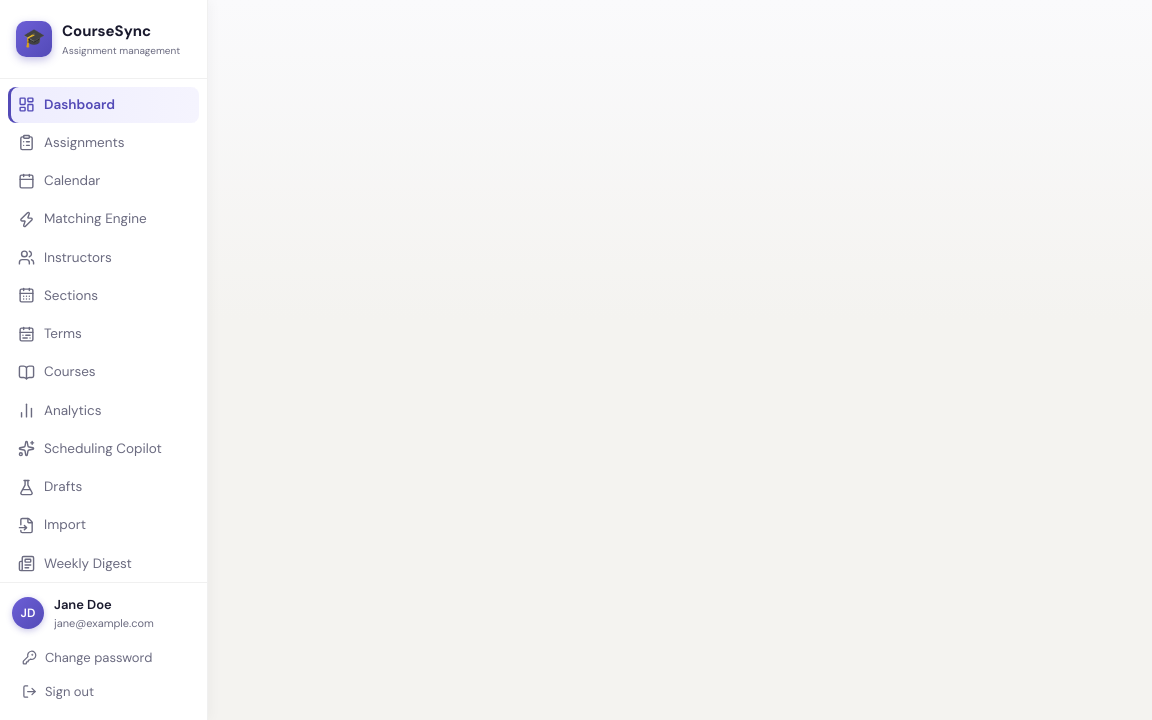
Test: Sidebar › sign-out confirmation › does not sign out immediately — it asks for confirmation first
The width and height of the screenshot is (1152, 720).
What coordinates should you click on to do the following:
click the button "Sign out"
I would click on:
 (104, 691)
Its box is [12, 674, 195, 708].
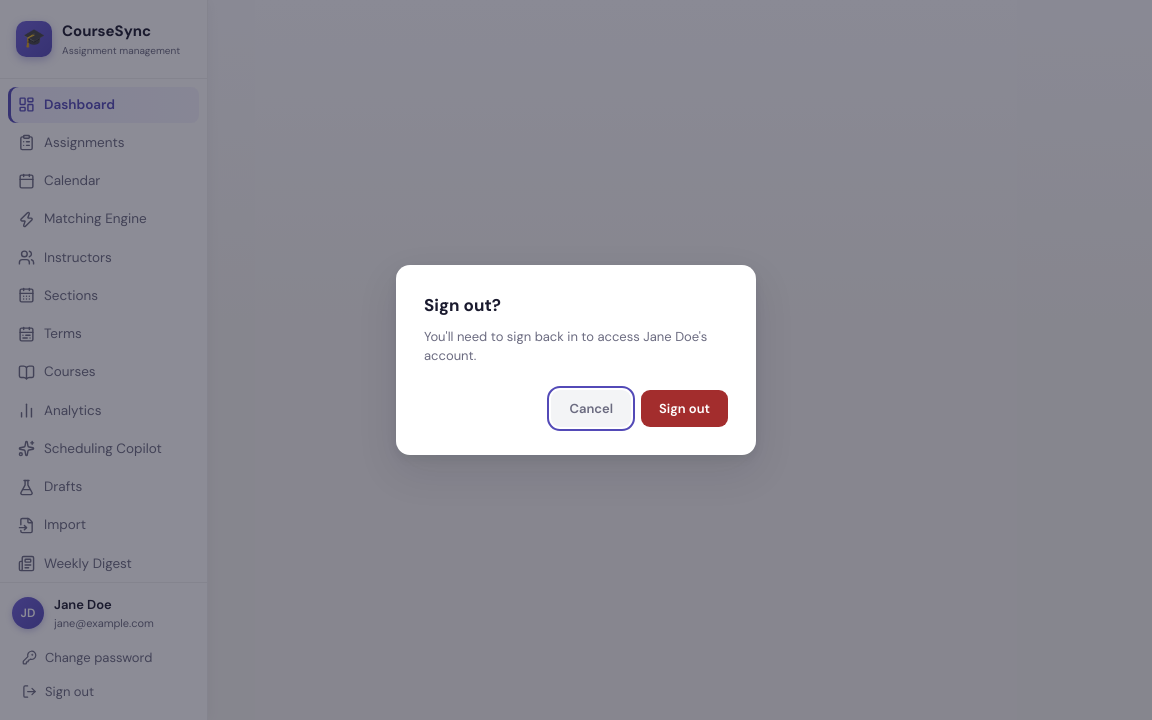
Now the heading "Sign out?" is shown, box [424, 294, 501, 316]
